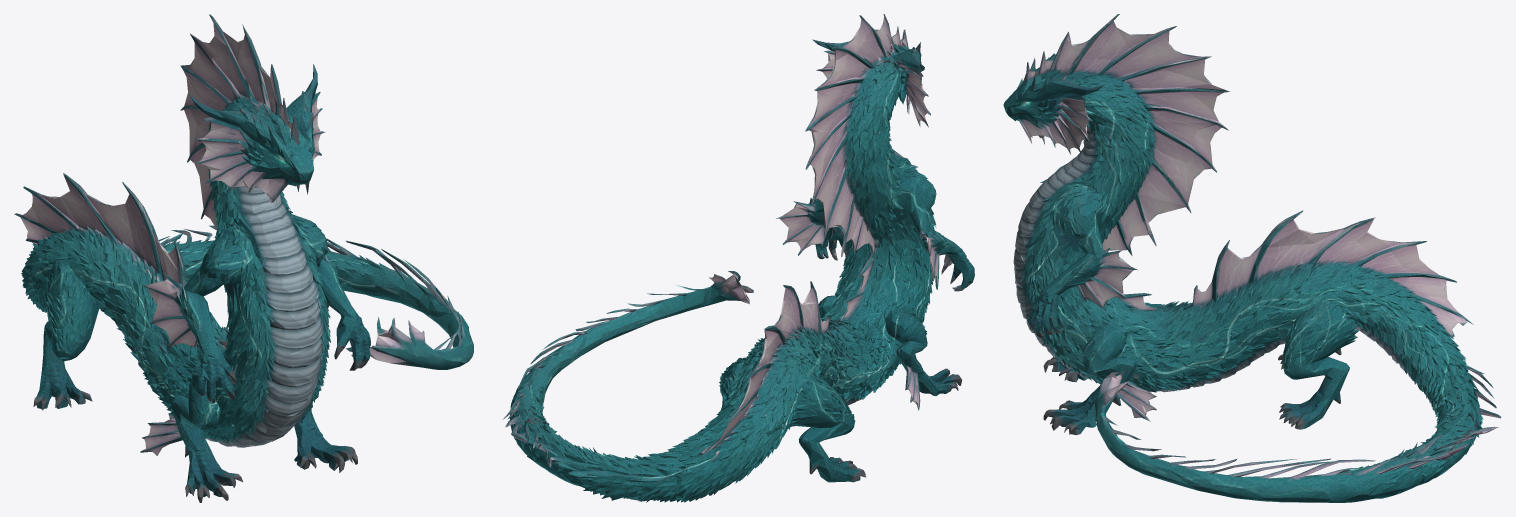
Rendered from tidecoil_a.glb.
3 views of the same model, side by side, from view 1: azimuth 30°, elevation 25°; view 2: azimuth 150°, elevation 25°; view 3: azimuth 270°, elevation 25° (orthographic). The views are drawn at different scales.
Parts seen in each view (by area): view 1: Mesh_0; view 2: Mesh_0; view 3: Mesh_0.
Part boxes in pixels (x1,y1,x2,y2): Mesh_0: [14, 14, 473, 502]; Mesh_0: [503, 14, 974, 502]; Mesh_0: [1003, 14, 1501, 502].
Bounding box in the file's own units: 1.52 × 1.63 × 1.9.
Materials: 1 (1 with a texture image).
